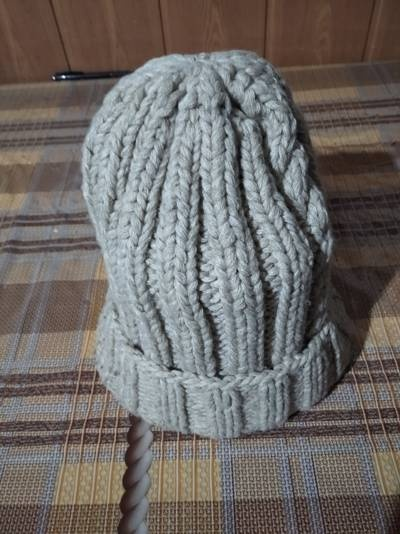Hat: (53, 38, 374, 440)
